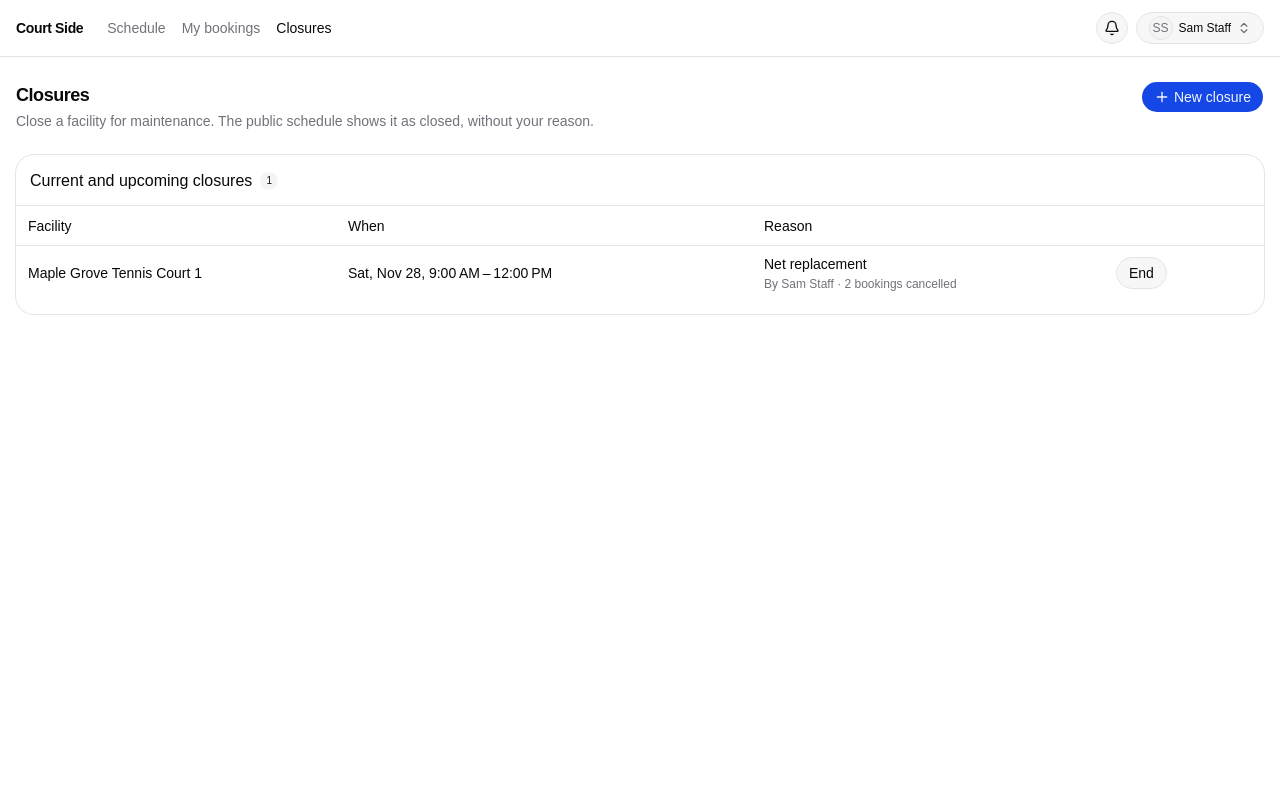
Test: Staff closures › ends a closure after confirmation
Expected: the text "2 bookings cancelled" is shown, [844,277,957,291]
Click the button with aria-label "End closure of Maple" at (1141, 273), box [1116,257,1167,289]
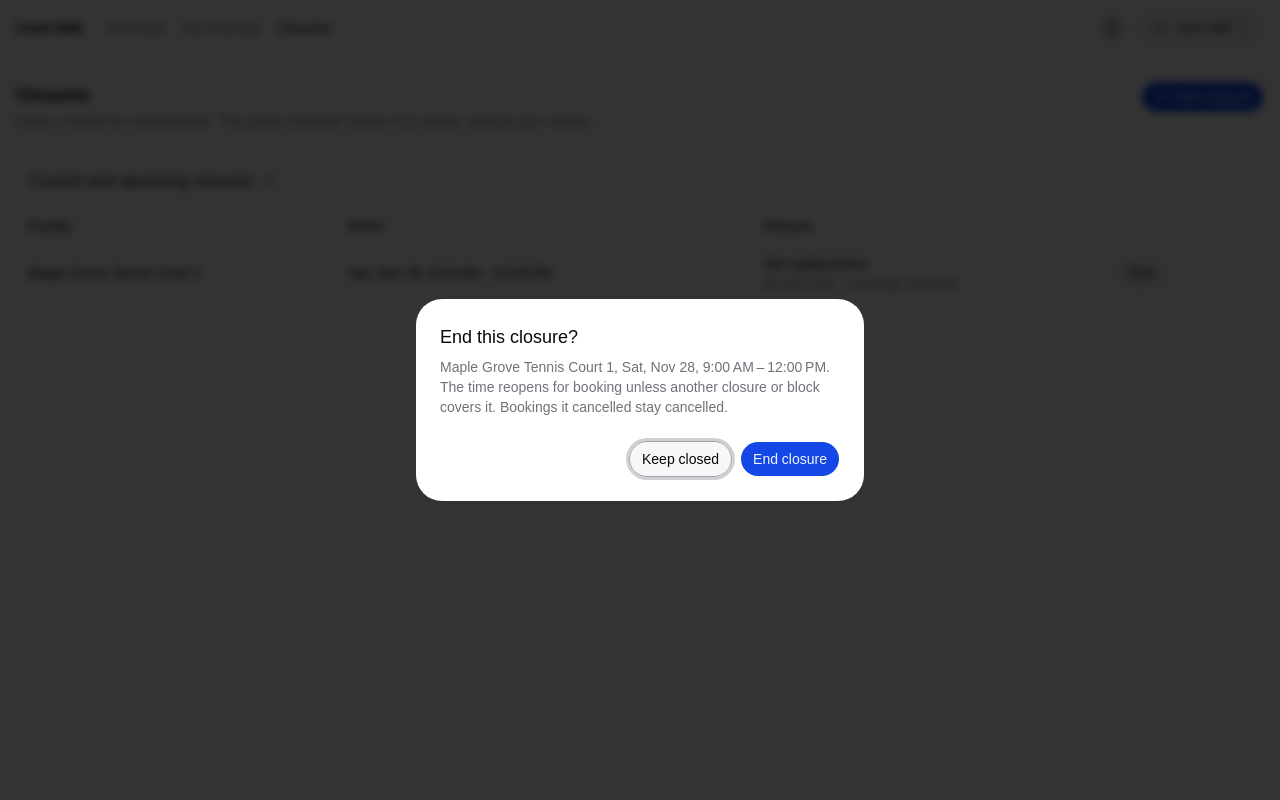
Click the button "End closure" at (790, 459), box [740,441,840,477]
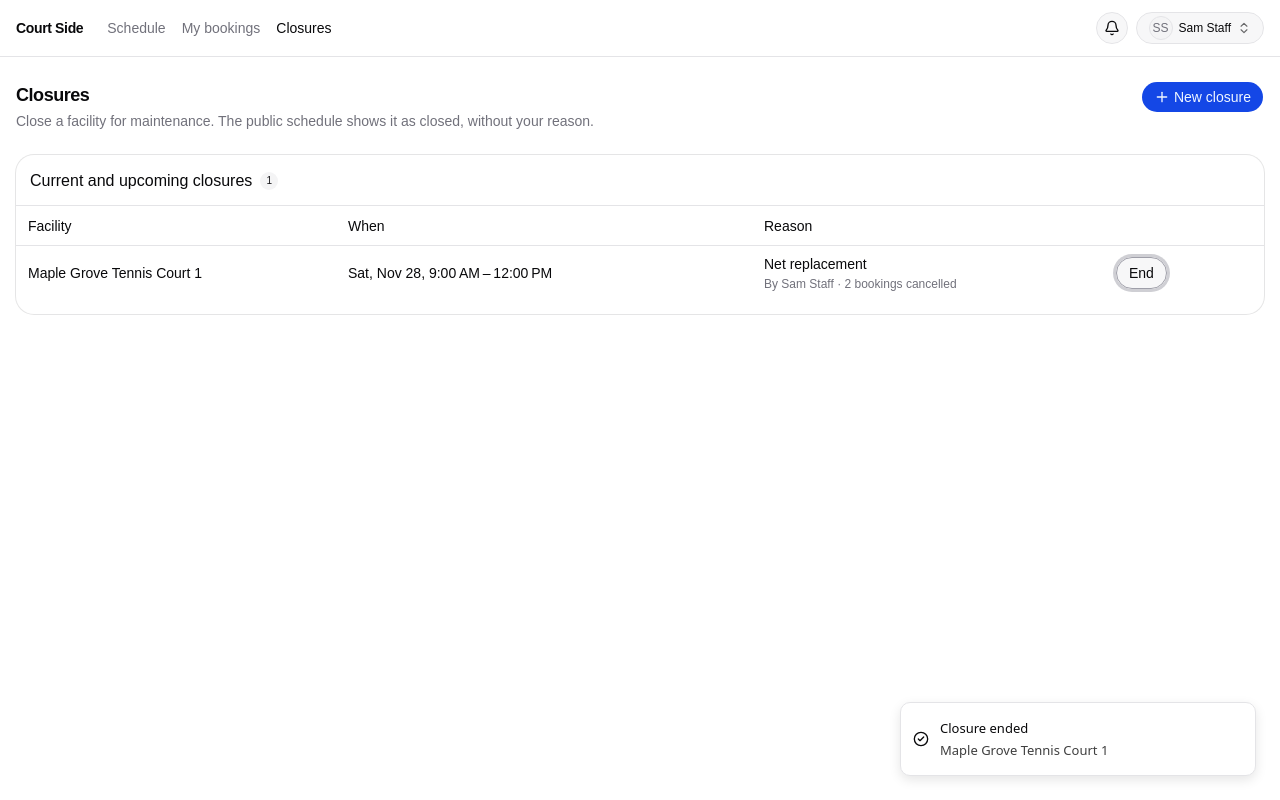
Result: the text "Closure ended" is shown at [940,719,1028,737]
